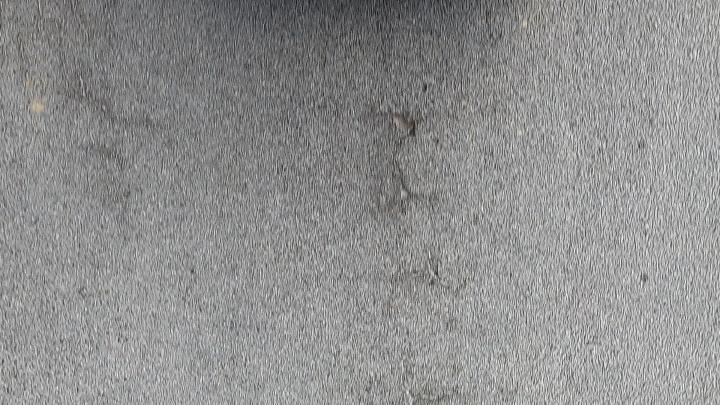Crack: (382, 103, 438, 213), (383, 107, 436, 204)
